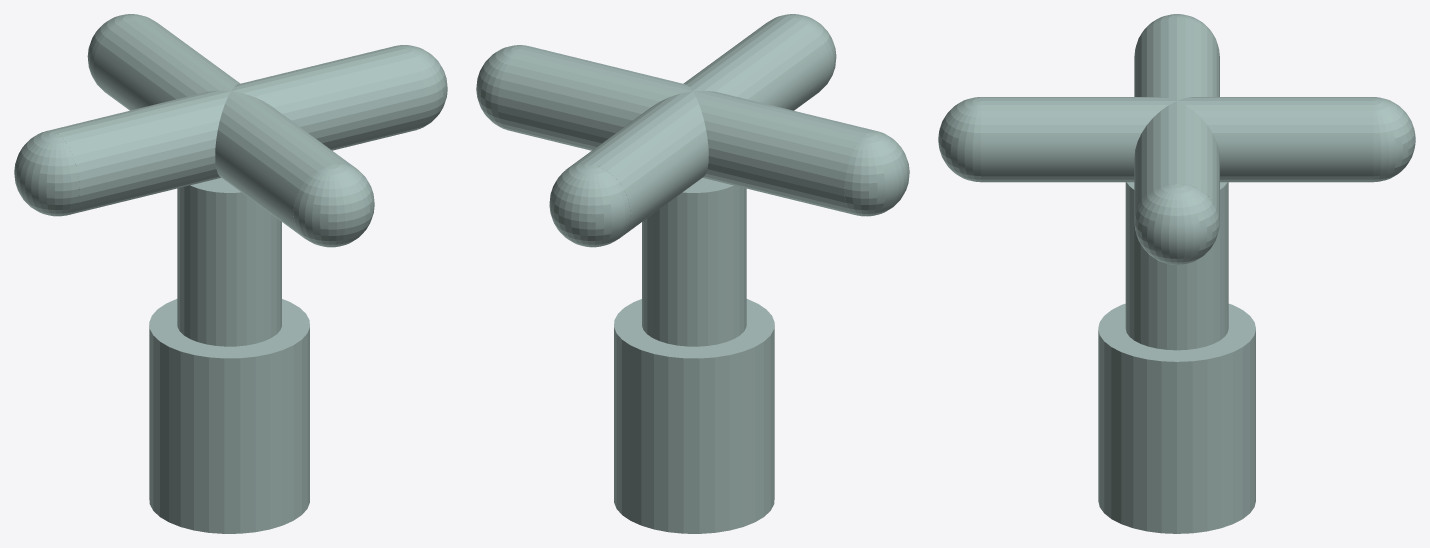
Rendered from ams_tap.gltf.
3 views of the same model, side by side, from view 1: azimuth 30°, elevation 25°; view 2: azimuth 150°, elevation 25°; view 3: azimuth 270°, elevation 25° (orthographic). The views are drawn at different scales.
Visible parts, largest first — view 1: Sink; view 2: Sink; view 3: Sink.
Part boxes in pixels (x1=…): Sink: x1=14, y1=14, x2=447, y2=533; Sink: x1=476, y1=14, x2=909, y2=533; Sink: x1=938, y1=14, x2=1415, y2=533.
Size of the model in its own units: 0.5648 by 0.5224 by 0.5648.
